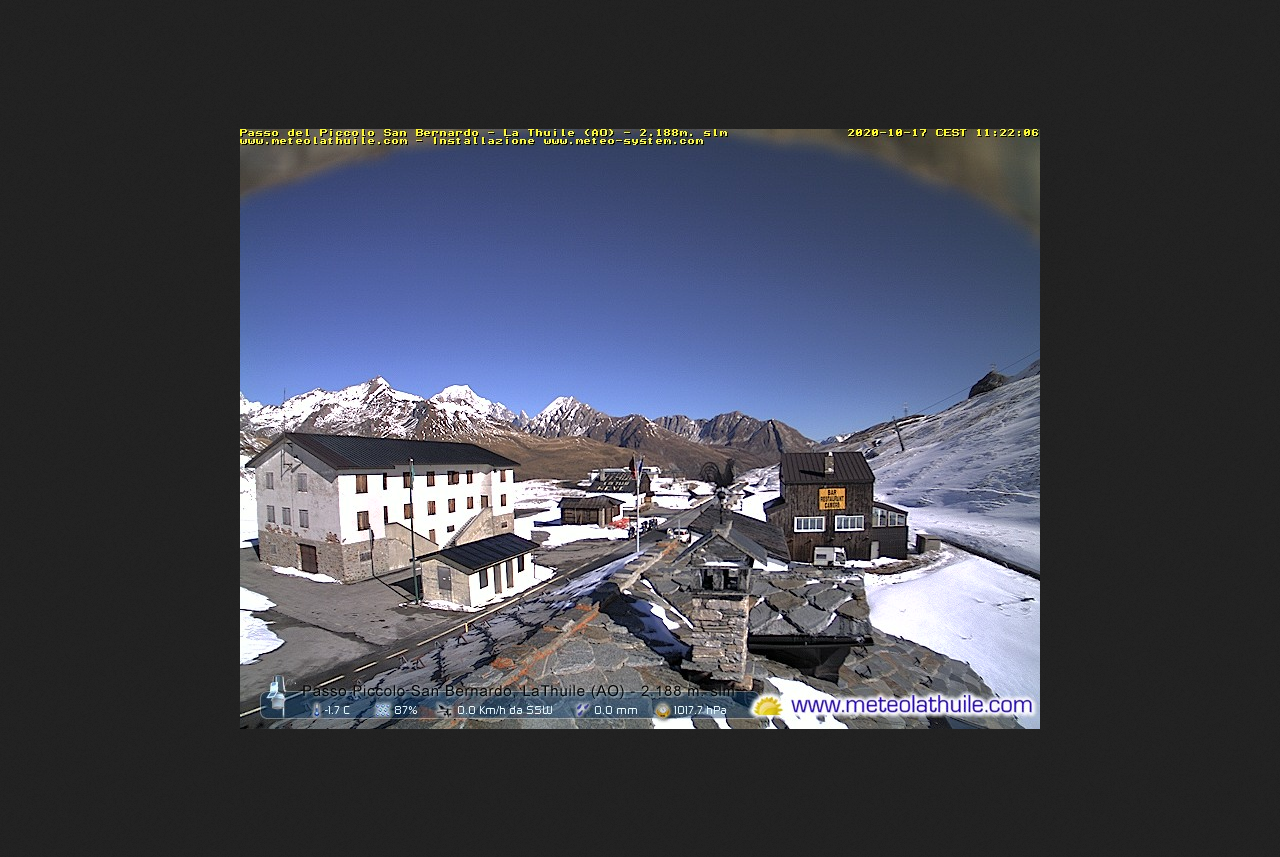no: (405, 463, 417, 489), (628, 455, 636, 480)
